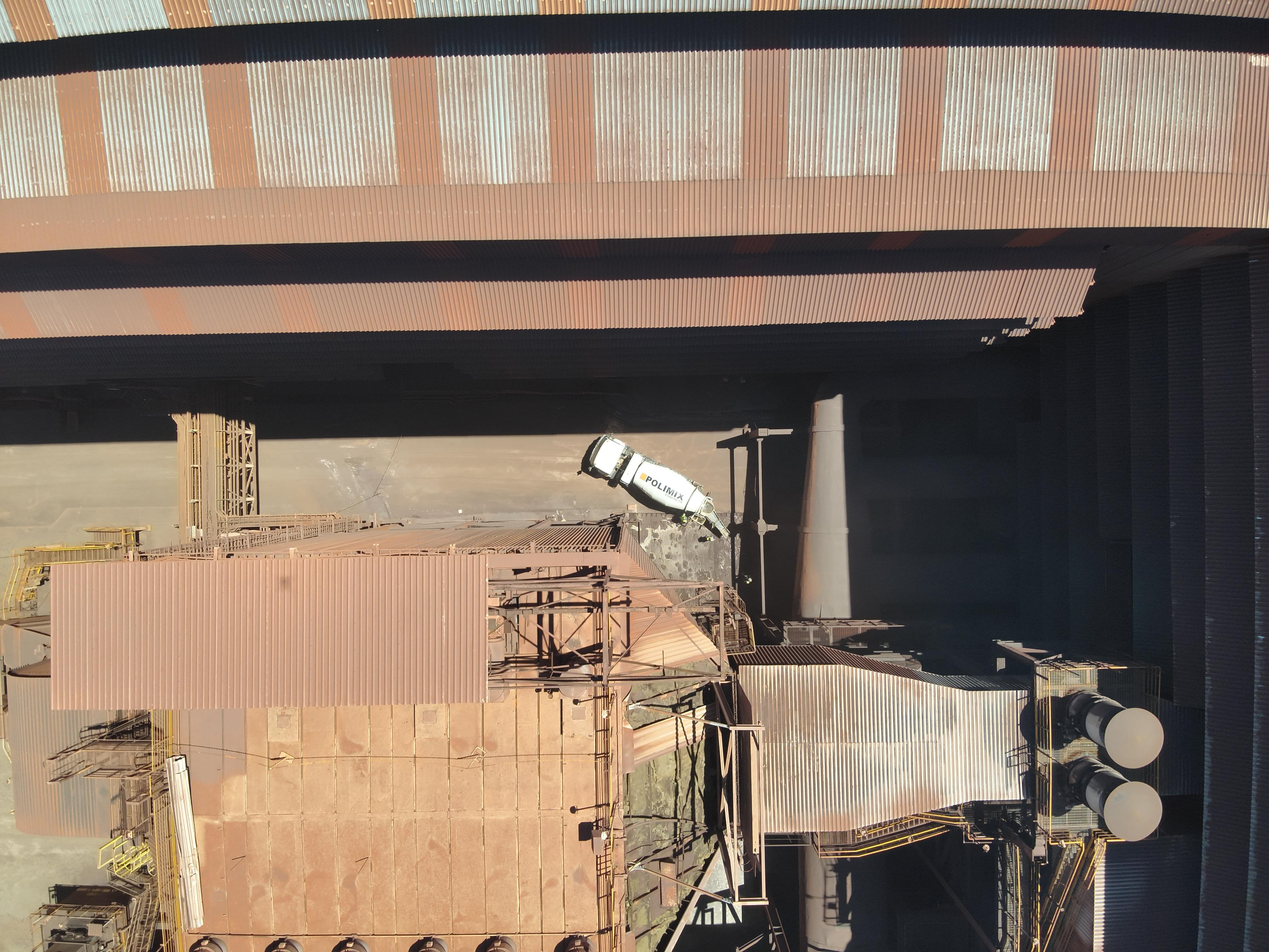Failures: (616, 741, 730, 952), (618, 650, 739, 735)
